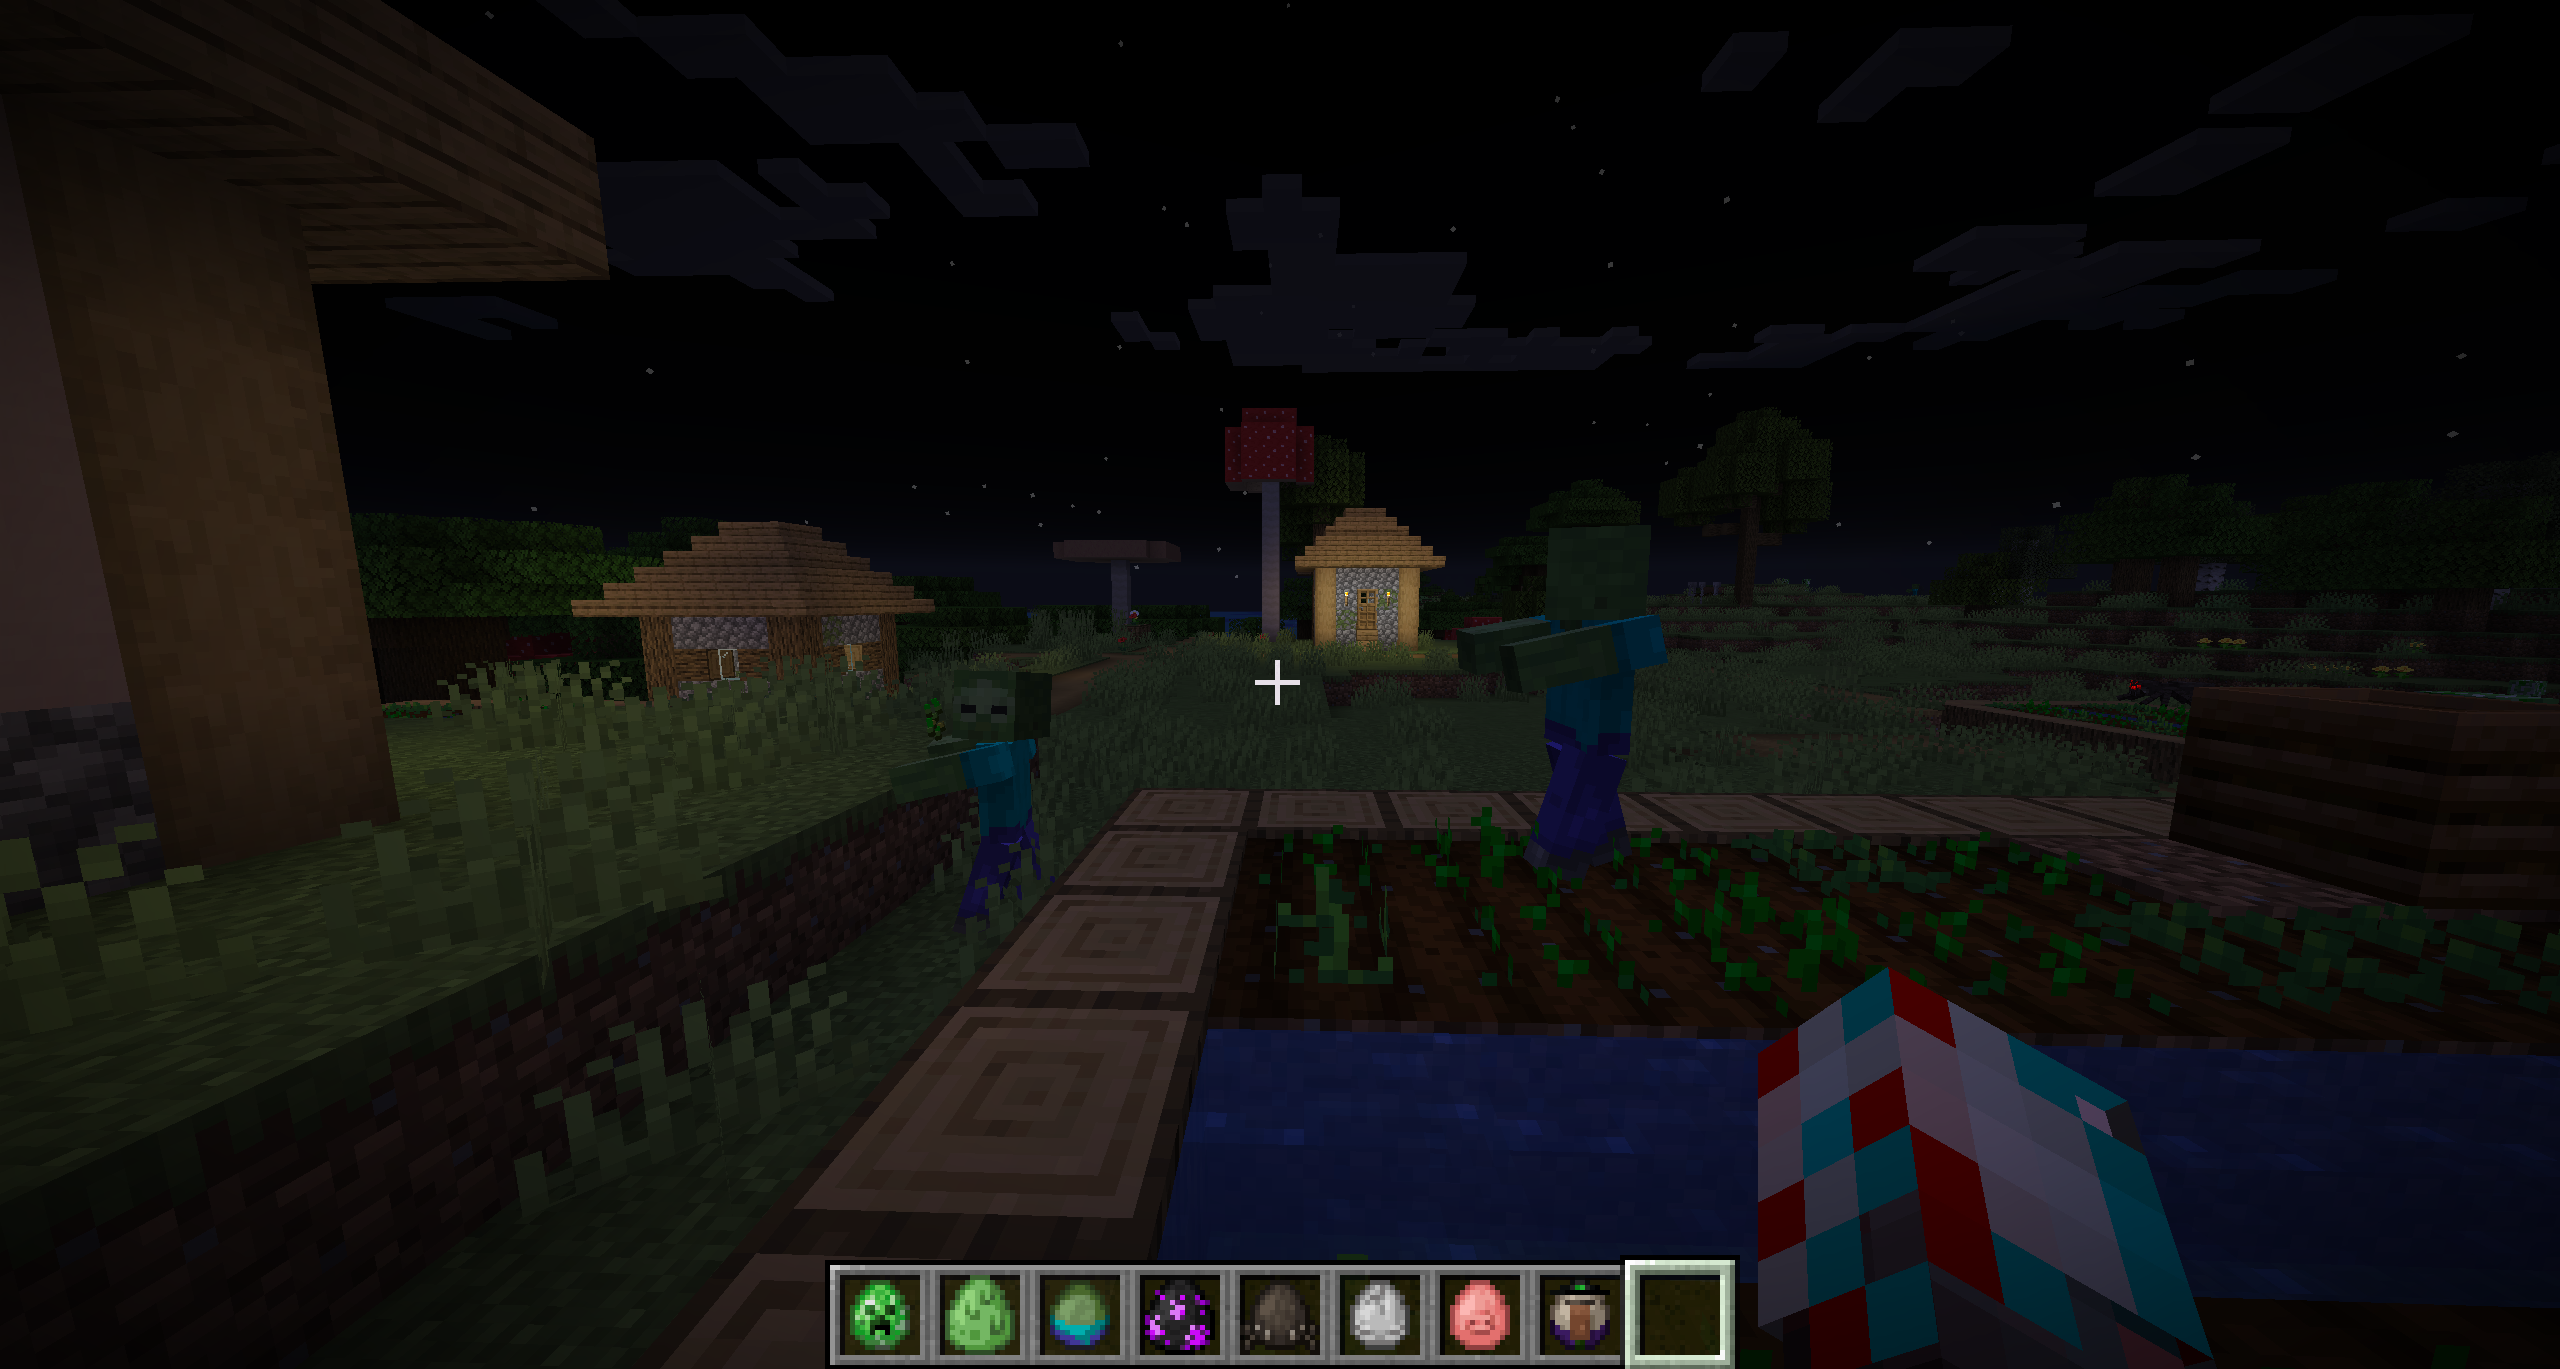zombies: (1524, 528, 1654, 868), (926, 668, 1051, 939)
